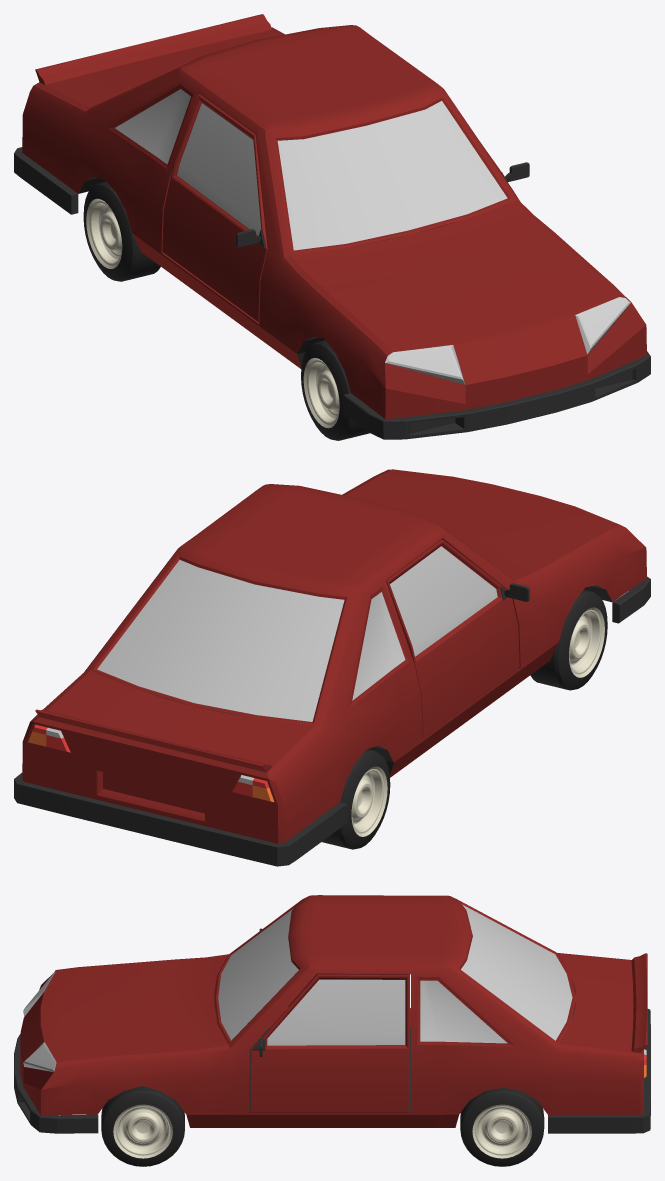
Rendered from sliced lowpoly.fbx.
The picture shows the model from 3 angles, top to bottom: view 1: azimuth 30°, elevation 25°; view 2: azimuth 150°, elevation 25°; view 3: azimuth 270°, elevation 25°; orthographic projection. The views are drawn at different scales.
Parts seen in each view (by area): view 1: Body, Hood, Door_R, Trunk_lid, Bumper_F, Wheel_R_R, Wheel_F_R.001, Bumper_R; view 2: Body, Trunk_lid, Door_R, Hood, Bumper_R, Wheel_F_R.001, Wheel_R_R, Bumper_F; view 3: Body, Door_L, Hood, Trunk_lid, Wheel_F_R, Wheel_R_L, Bumper_R, Bumper_F.
Boxes of the visible parts, x1,y1,x2,y2 form: Body: (22,25,646,419); Hood: (291,200,619,364); Door_R: (162,95,267,322); Trunk_lid: (35,14,281,107); Bumper_F: (343,351,650,439); Wheel_R_R: (83,181,160,281); Wheel_F_R.001: (301,340,369,440); Bumper_R: (14,147,78,214); Body: (22,469,646,843); Trunk_lid: (33,671,314,793); Door_R: (386,539,529,737); Hood: (345,469,619,580); Bumper_R: (14,773,347,866); Wheel_F_R.001: (530,590,607,690); Wheel_R_R: (322,749,390,849); Bumper_F: (612,576,650,623); Body: (20,895,646,1127); Door_L: (250,974,409,1112); Hood: (30,954,228,1061); Trunk_lid: (558,953,647,1057); Wheel_F_R: (101,1085,184,1166); Wheel_R_L: (460,1087,544,1166); Bumper_R: (548,1009,650,1133); Bumper_F: (14,1034,98,1133).
Bounding box in the file's own units: 205 × 152 × 468.
